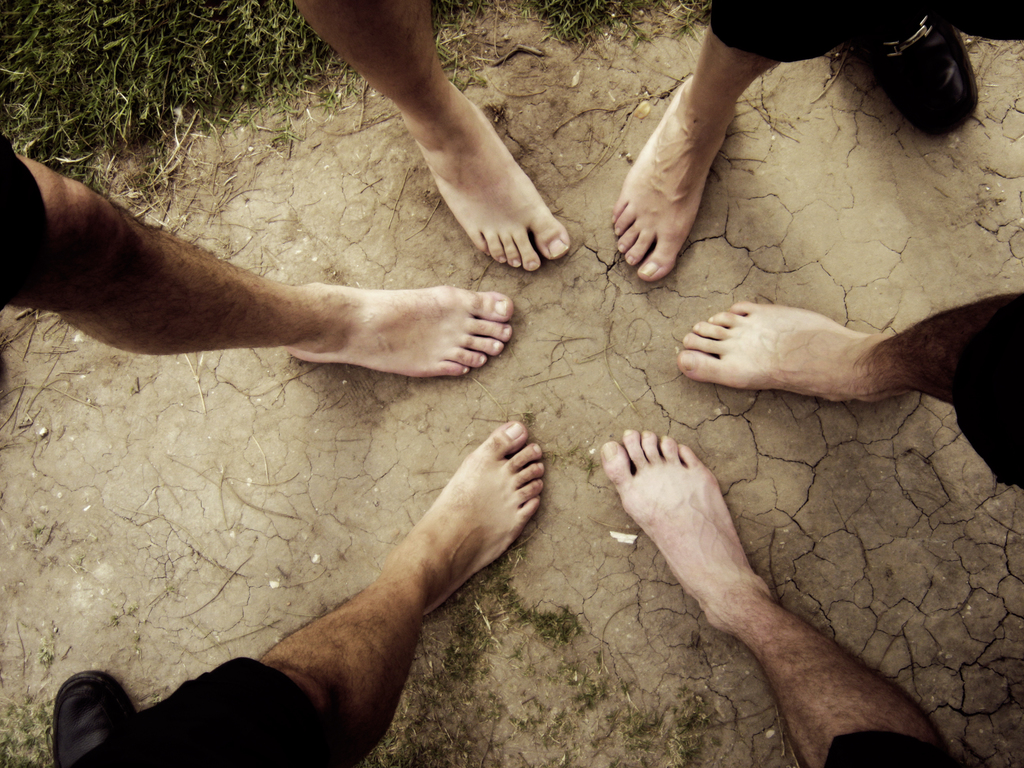Person: (0, 0, 1023, 768)
